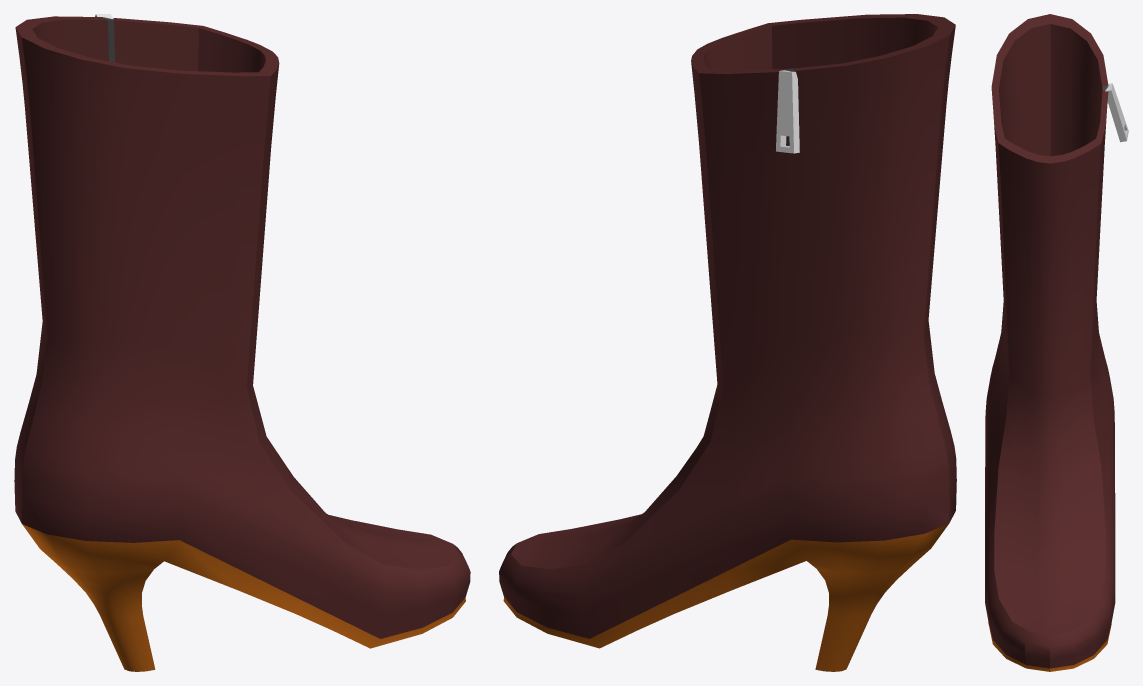
File: womans_boot.gltf
The picture shows the model from 3 angles, left to right: view 1: azimuth 30°, elevation 25°; view 2: azimuth 150°, elevation 25°; view 3: azimuth 270°, elevation 25°; orthographic projection. The views are drawn at different scales.
Parts seen in each view (by area): view 1: Circle.1809; view 2: Circle.1809; view 3: Circle.1809.
Boxes of the visible parts, x1,y1,x2,y2 form: Circle.1809: [14, 14, 470, 671]; Circle.1809: [499, 14, 956, 671]; Circle.1809: [985, 14, 1128, 671].
Size of the model in its own units: 1.46 by 2.07 by 0.5441.
1 material, 1 textured.
